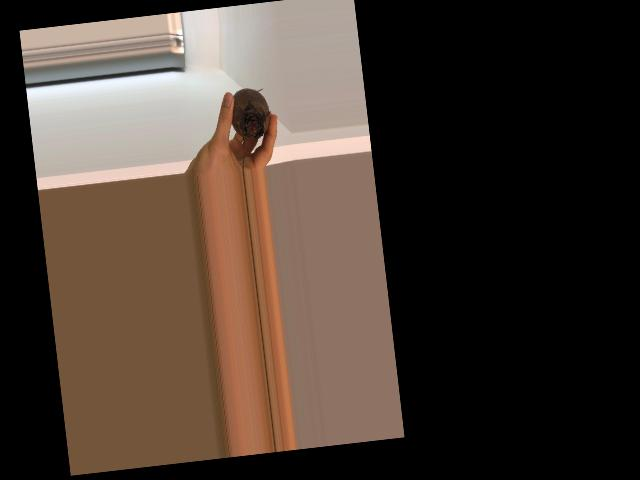beet: (226, 85, 277, 171)
